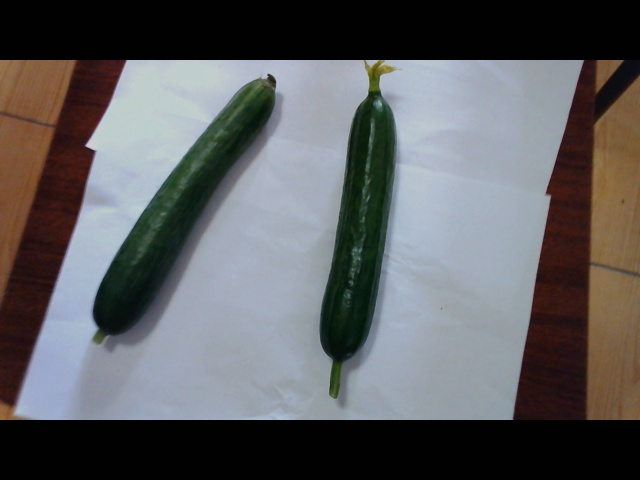cucumber: (82, 68, 281, 356), (311, 59, 403, 393)
